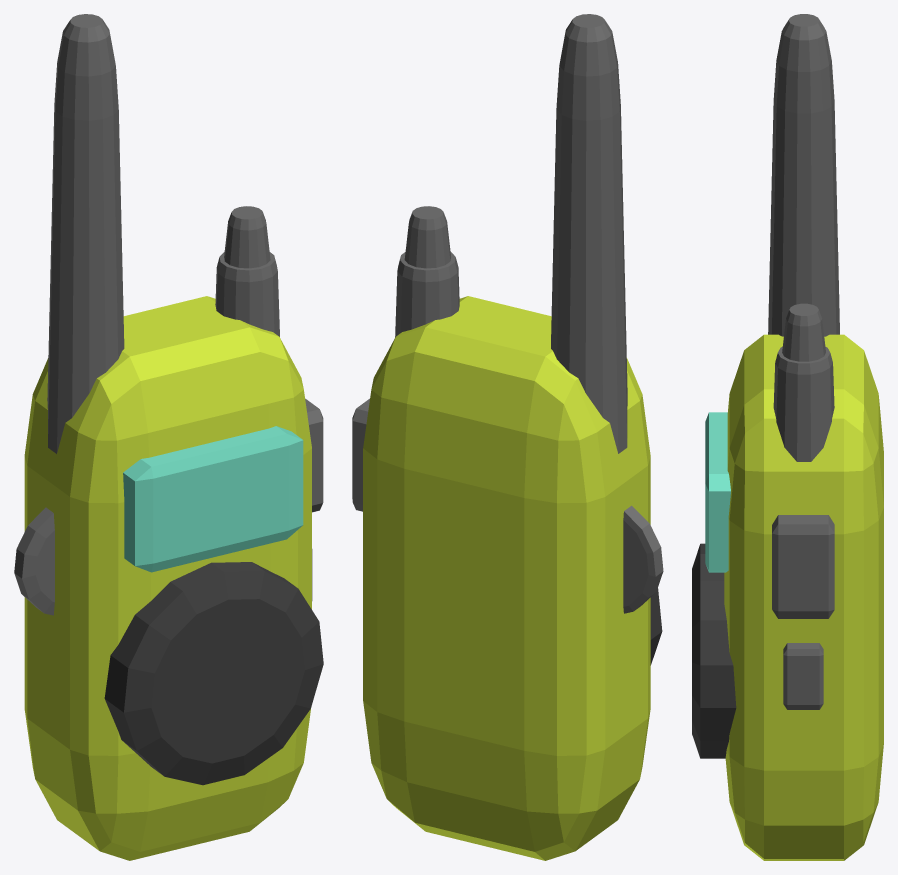
Rendered from radiolina.fbx.
The picture shows the model from 3 angles, left to right: view 1: azimuth 30°, elevation 25°; view 2: azimuth 150°, elevation 25°; view 3: azimuth 270°, elevation 25°; orthographic projection. The views are drawn at different scales.
Parts seen in each view (by area): view 1: Cube.004, Cylinder.002, Cone.002, Cube.005, Cone.003, Cylinder.003, Cube.006; view 2: Cube.004, Cone.002, Cone.003, Cylinder.003, Cube.006, Cylinder.002; view 3: Cube.004, Cone.002, Cone.003, Cylinder.002, Cube.006, Cube.005, Cube.007.
Boxes of the visible parts, box(x1,y1,x2,y2) form: Cube.004: box(24, 296, 311, 860); Cylinder.002: box(104, 562, 323, 785); Cone.002: box(47, 14, 124, 453); Cube.005: box(123, 426, 303, 572); Cone.003: box(215, 206, 279, 336); Cylinder.003: box(14, 507, 54, 615); Cube.006: box(305, 398, 323, 512); Cube.004: box(363, 296, 650, 860); Cone.002: box(551, 14, 627, 453); Cone.003: box(395, 206, 459, 337); Cylinder.003: box(623, 505, 663, 613); Cube.006: box(352, 398, 369, 511); Cylinder.002: box(650, 588, 662, 665); Cube.004: box(724, 334, 883, 860); Cone.002: box(768, 14, 839, 336); Cone.003: box(773, 303, 834, 461); Cylinder.002: box(692, 543, 736, 758); Cube.006: box(772, 515, 834, 618); Cube.005: box(705, 412, 730, 572); Cube.007: box(783, 643, 823, 709).
Size of the model in its own units: 245 by 662 by 148.
